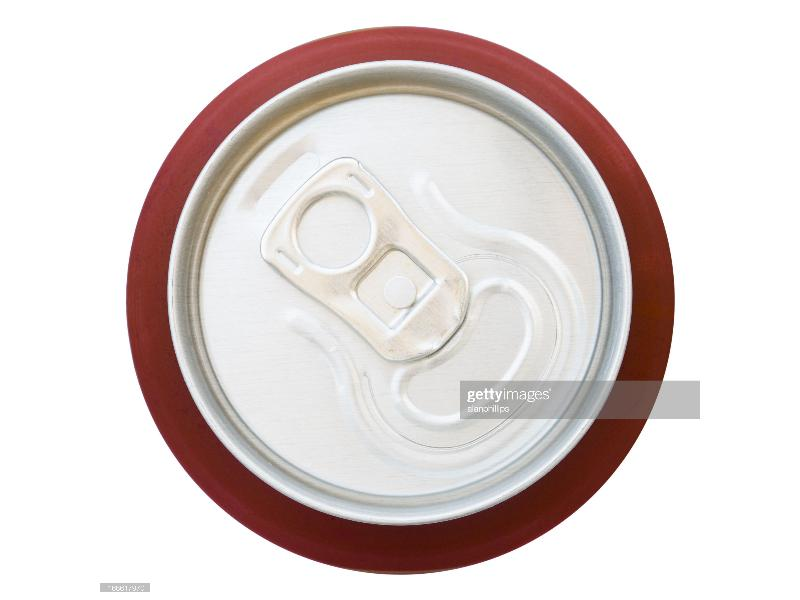can: (126, 23, 675, 576)
